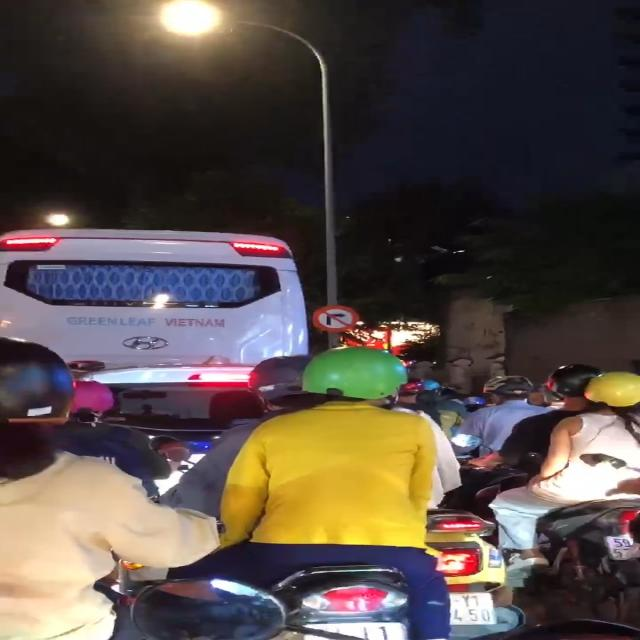Bien bao cam re phai: (308, 299, 362, 333)
